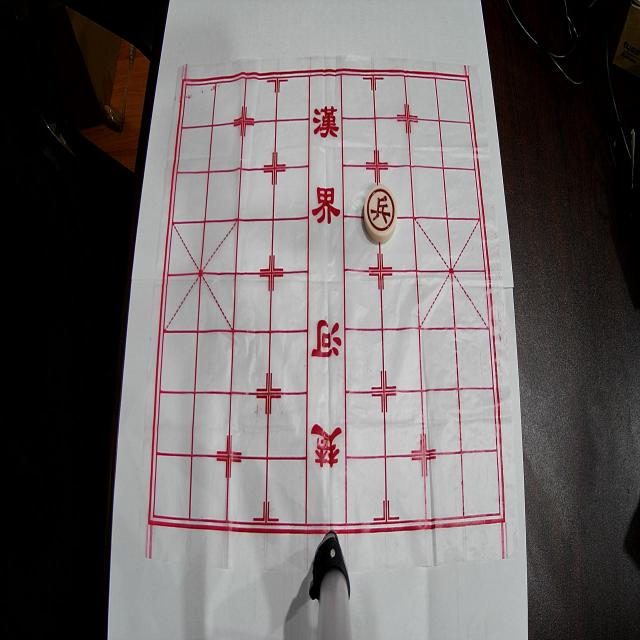red-soldier: (364, 185, 396, 242)
